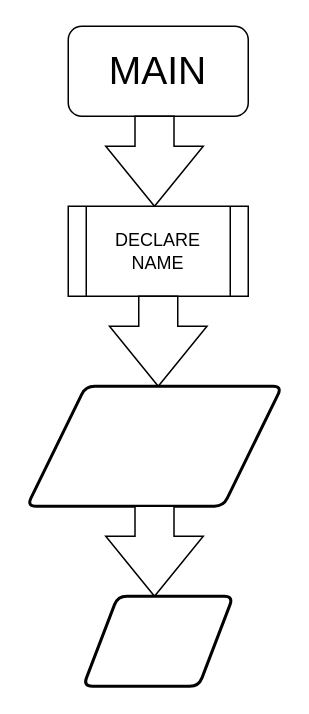
Image size: 309x714. Some labels were removed from this diagram. Here are the shapes that lost their labels. From the top down, the centre of each, then its label:
point 154,445: OUTPUT "WHAT IS YOUR NAME?"
point 157,640: INPUT
